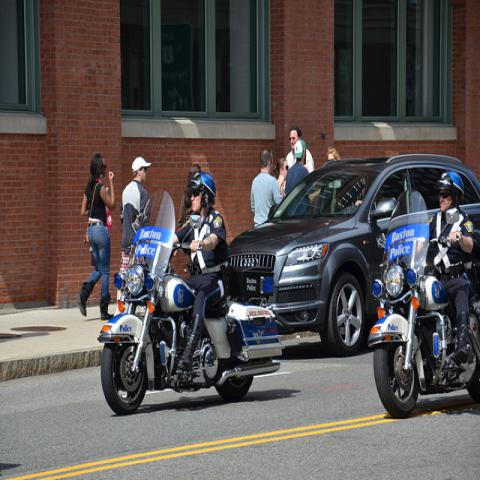car: (228, 150, 479, 356)
motorcycle: (97, 186, 479, 423)
